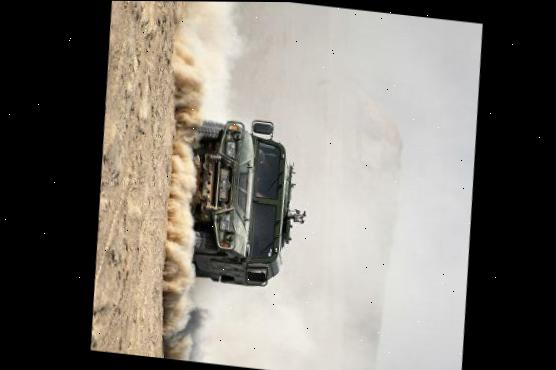armored_car: (176, 110, 320, 292)
